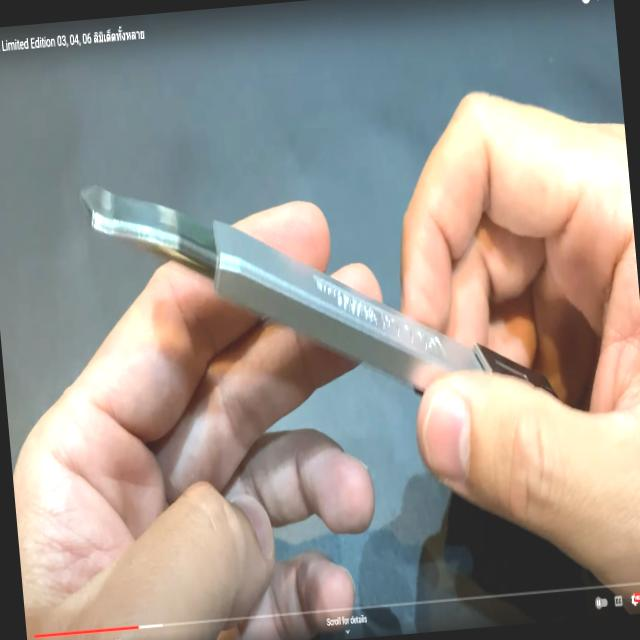cutter: (41, 48, 640, 571)
